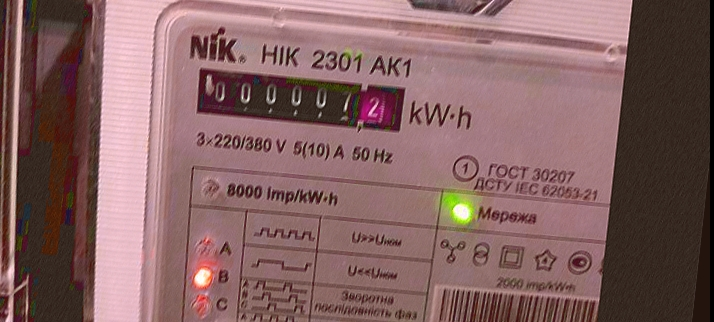0: (210, 77, 226, 103), (287, 83, 303, 107), (262, 81, 277, 105), (312, 85, 327, 109), (236, 80, 251, 103)
2: (364, 94, 379, 119)
7: (337, 87, 352, 113)
screen: (181, 54, 414, 144)
